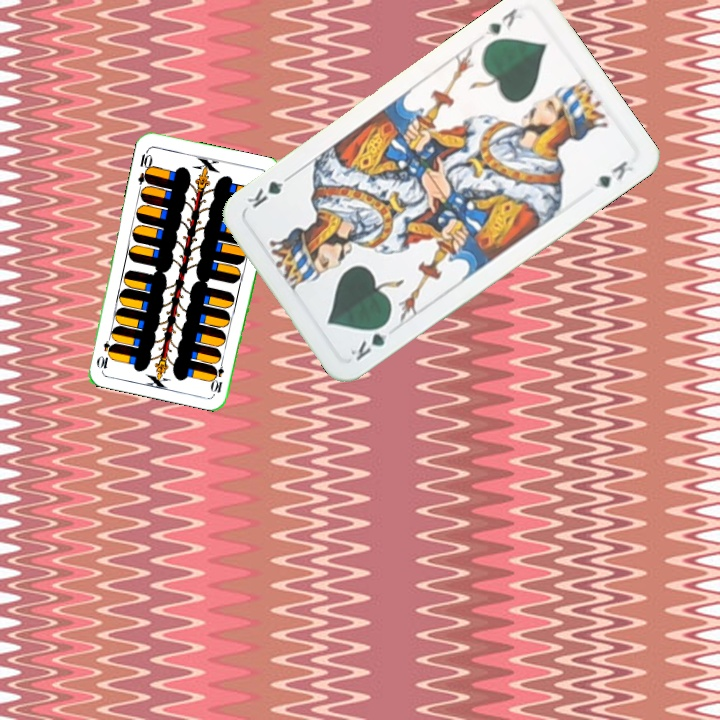E10: (134, 146, 155, 186), (209, 355, 227, 395)
GK: (346, 317, 393, 364), (481, 3, 526, 38)
